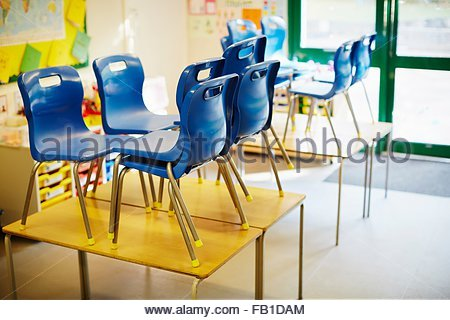desk: (2, 169, 318, 286)
